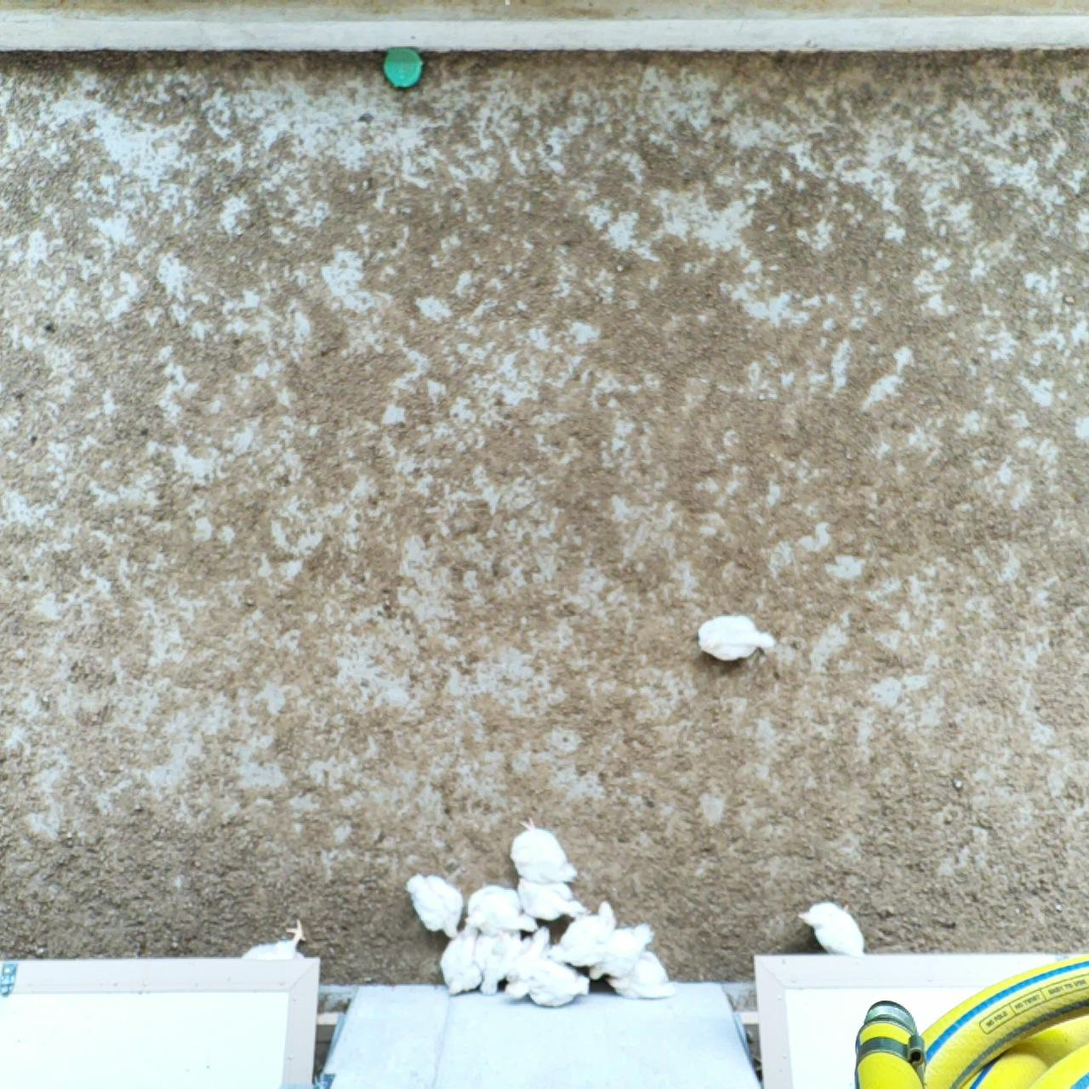chicken: (228, 919, 309, 995), (796, 897, 867, 966), (548, 899, 619, 965), (509, 818, 578, 885), (588, 915, 657, 982), (522, 949, 590, 1014), (463, 881, 542, 935), (696, 611, 774, 665), (407, 870, 467, 940), (515, 871, 590, 927), (500, 926, 551, 1005), (604, 945, 671, 1000), (440, 920, 484, 996), (478, 925, 523, 999)
